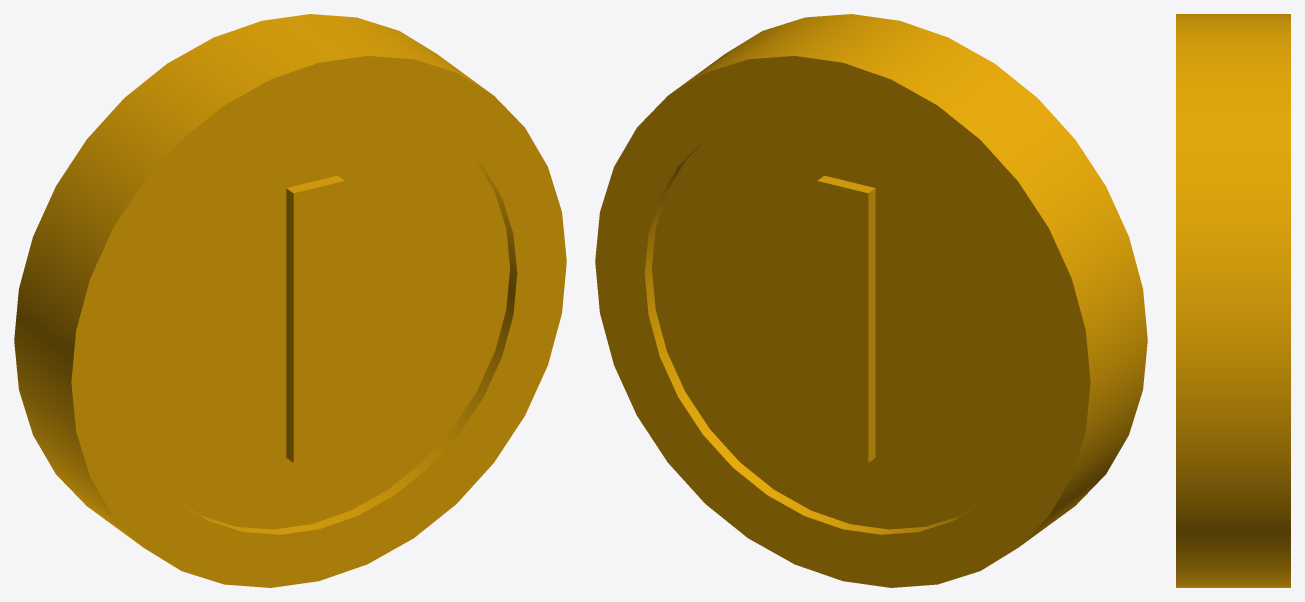
The model's file is Coin.fbx.
3 views of the same model, side by side, from view 1: azimuth 30°, elevation 25°; view 2: azimuth 150°, elevation 25°; view 3: azimuth 270°, elevation 25° (orthographic).
Visible parts, largest first — view 1: CoinObj; view 2: CoinObj; view 3: CoinObj.
Part boxes in pixels (bbox=[...]): CoinObj: bbox=[14, 14, 566, 587]; CoinObj: bbox=[595, 14, 1147, 587]; CoinObj: bbox=[1176, 14, 1290, 587].
Size of the model in its own units: 10 by 10 by 2.
